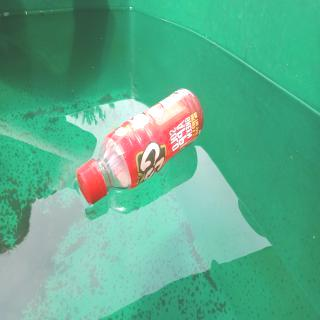bottle: (76, 86, 205, 207)
